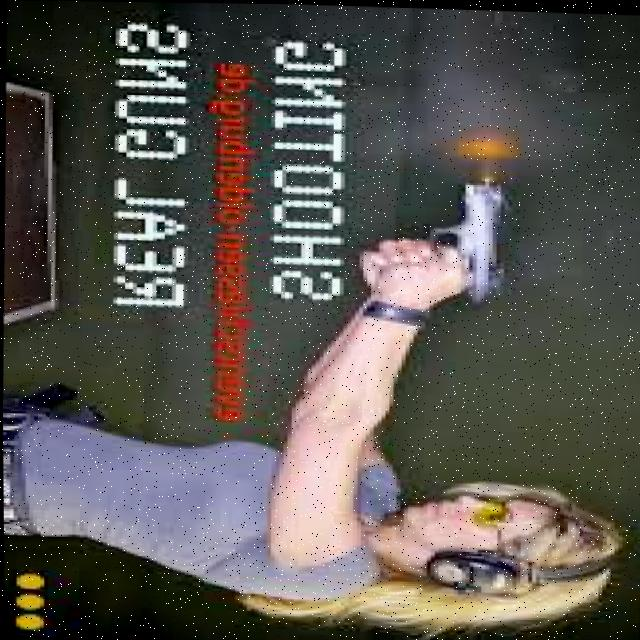pistol: (423, 176, 513, 304)
